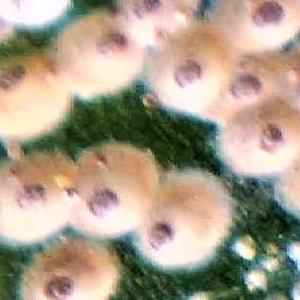Femea: (139, 169, 232, 269), (65, 159, 142, 235), (0, 158, 61, 250), (55, 23, 132, 89), (24, 253, 122, 299), (152, 44, 216, 110), (226, 50, 285, 116), (237, 114, 294, 167), (228, 0, 299, 39), (0, 59, 48, 114), (126, 0, 183, 17)
Linfa: (229, 233, 256, 265), (243, 269, 264, 294), (258, 253, 281, 275), (287, 237, 299, 262)
